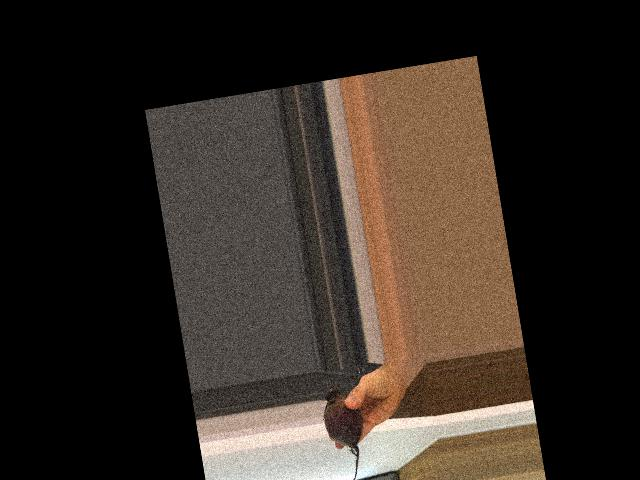beet: (318, 381, 372, 480)
